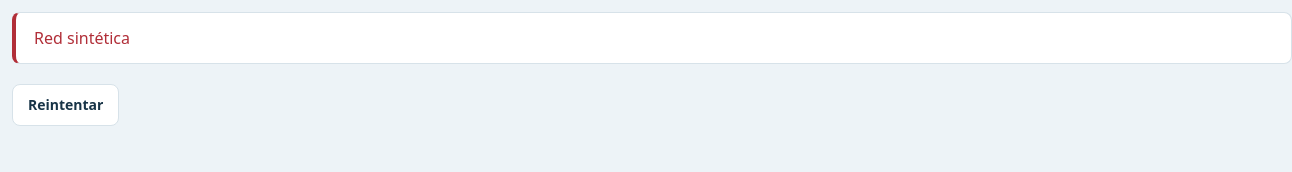
Test: Tareas V0.1 › muestra el fallo de capacidades y permite reintentar
Expected: the message reads "Red sintética", [34,27,130,49]
Step 1. Click the button "Reintentar" → (66, 105), box [12,84,119,126]
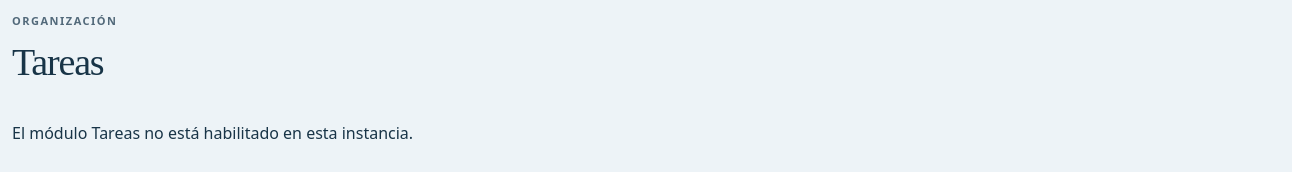
Expected: the text "El módulo Tareas no está habilitado en esta instancia." is shown, [12,122,413,144]
